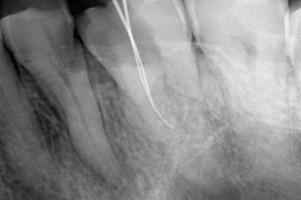Furcation Involvement: (93, 143, 138, 200), (173, 171, 241, 200)
